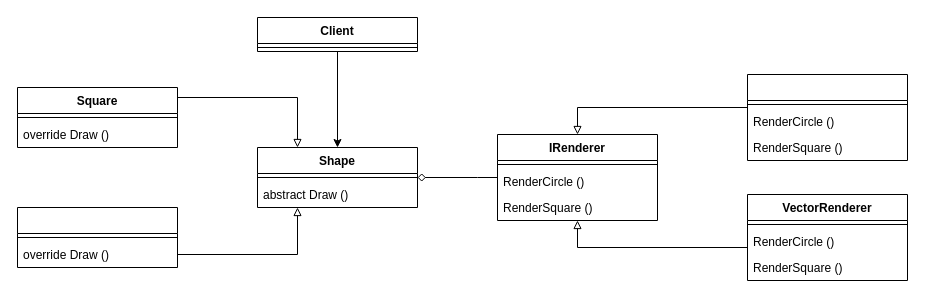
This 925x301 diagram has some shape labels left out. Each missing label, with the box of its shape:
Circle: (16, 206, 178, 268)
RasterRenderer: (746, 74, 908, 160)
